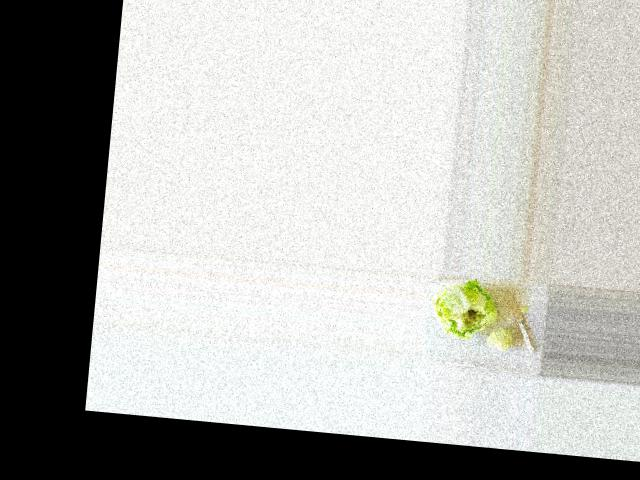lettuce: (426, 278, 493, 340)
